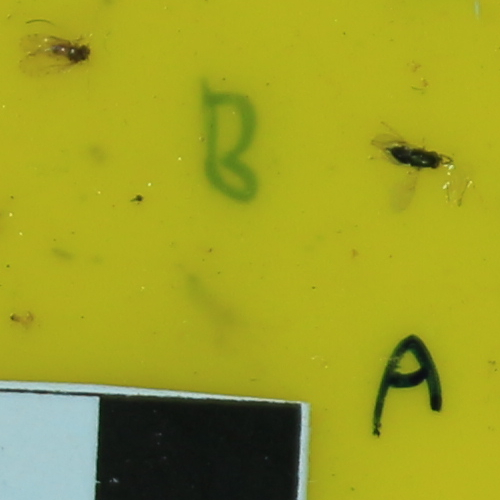wasp: (380, 140, 447, 171)
